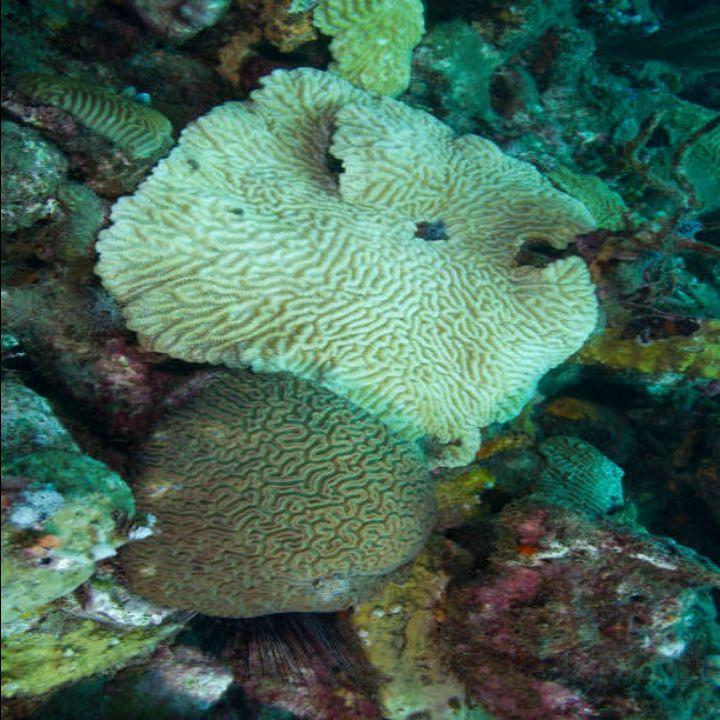Bleached disease: (98, 72, 567, 388)
Healthy Coral: (113, 422, 414, 636)
